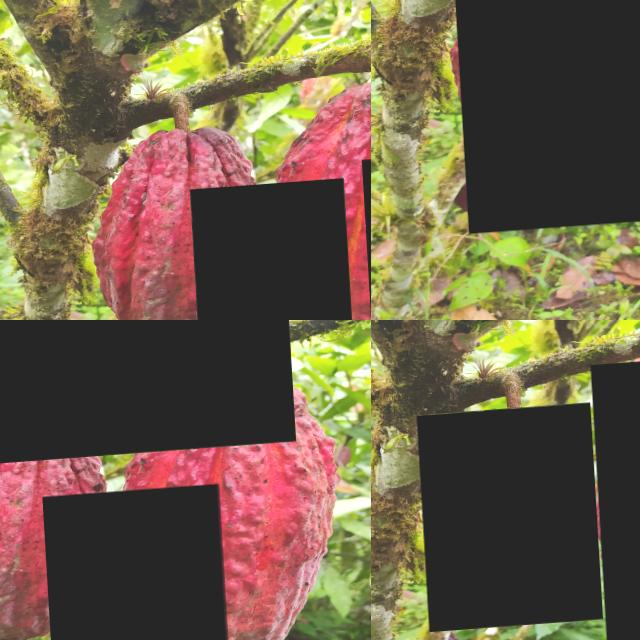Fitoftora: (0, 320, 293, 473)
Monilia: (449, 0, 640, 236), (39, 491, 230, 640), (186, 184, 352, 320)
Sana: (414, 408, 598, 635), (152, 439, 344, 640), (283, 320, 371, 604)
